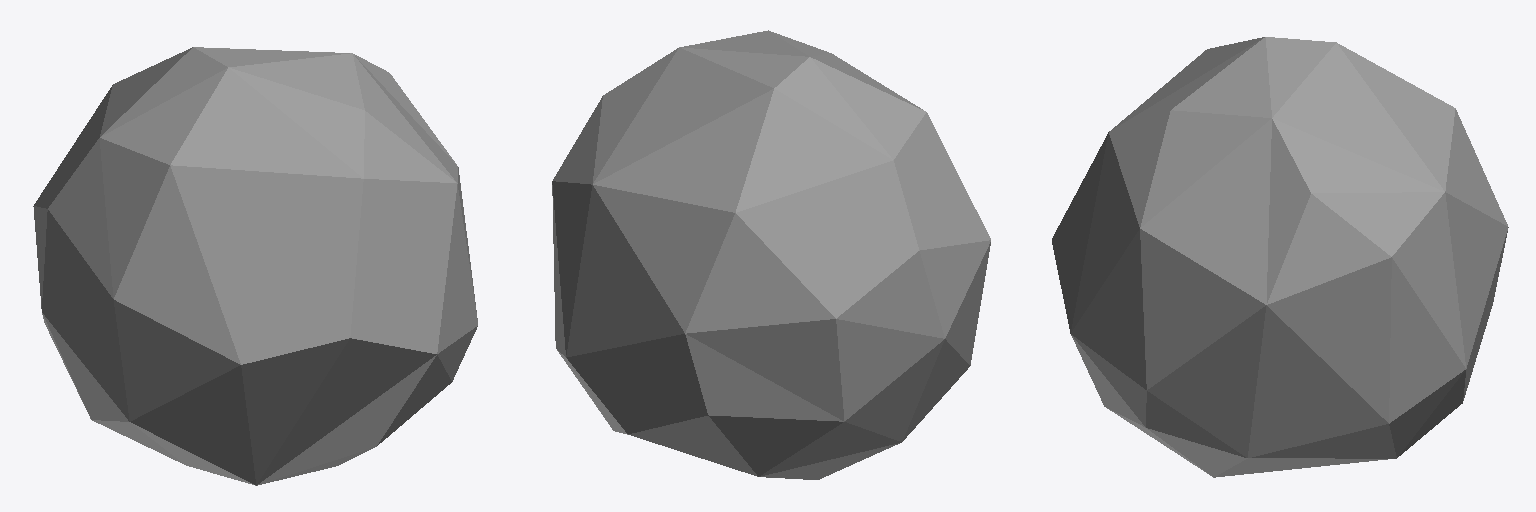
Rendered from Low_Poly_Rock_Boulder.obj.
3 views of the same model, side by side, from view 1: azimuth 30°, elevation 25°; view 2: azimuth 150°, elevation 25°; view 3: azimuth 270°, elevation 25° (orthographic).
Visible parts, largest first — view 1: Low_Poly_Rock_Boulder_Icosphere; view 2: Low_Poly_Rock_Boulder_Icosphere; view 3: Low_Poly_Rock_Boulder_Icosphere.
Part boxes in pixels (bbox=[...]): Low_Poly_Rock_Boulder_Icosphere: bbox=[33, 47, 477, 485]; Low_Poly_Rock_Boulder_Icosphere: bbox=[552, 30, 990, 479]; Low_Poly_Rock_Boulder_Icosphere: bbox=[1052, 37, 1508, 477].
Size of the model in its own units: 3.18 by 3.14 by 3.22.